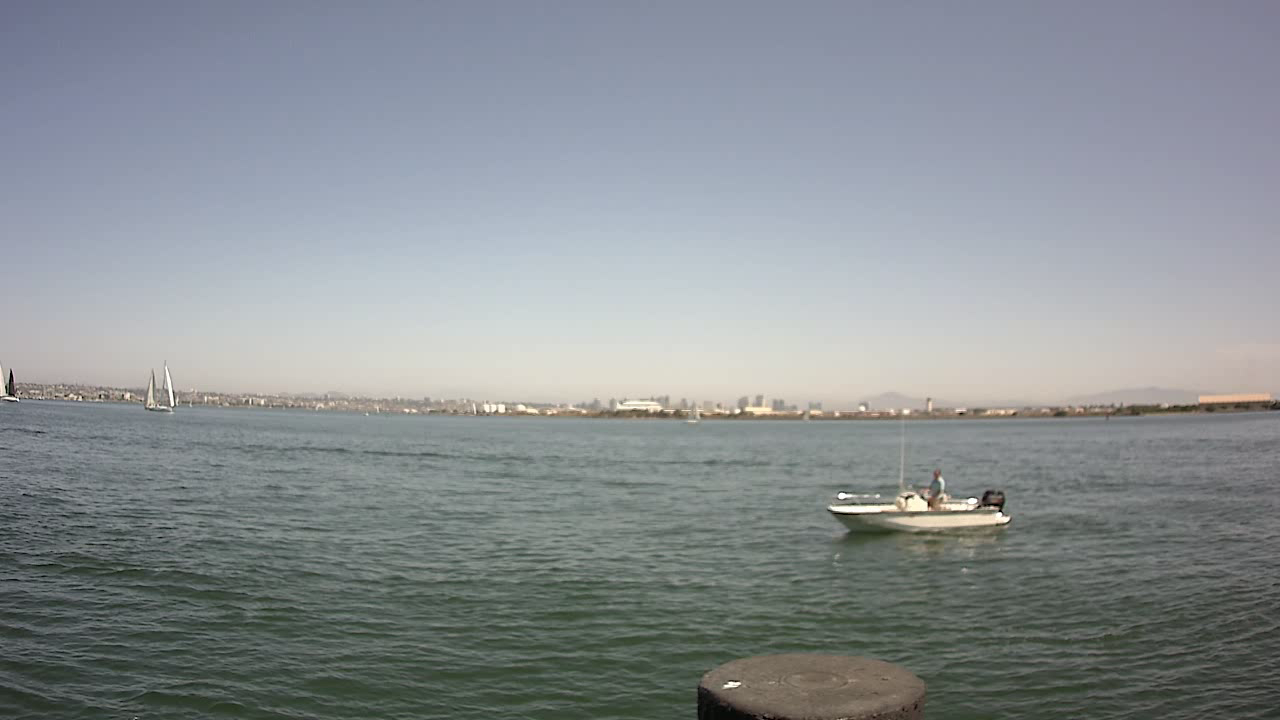target: (827, 458, 1015, 540)
